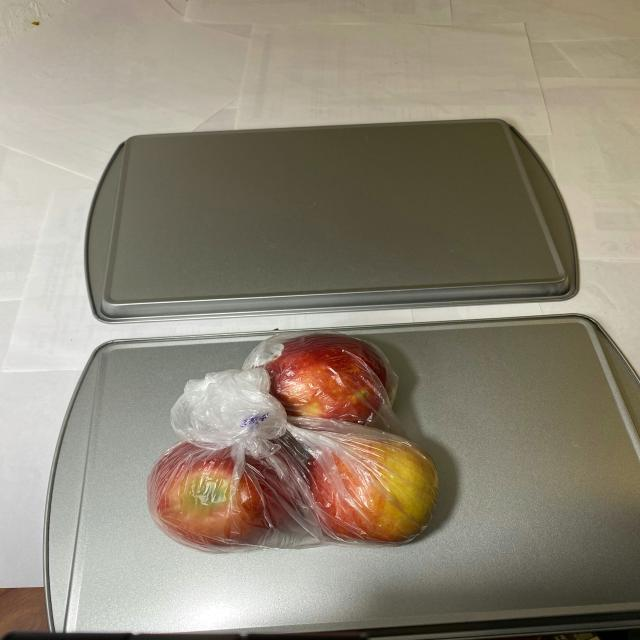apple: (148, 330, 451, 556)
